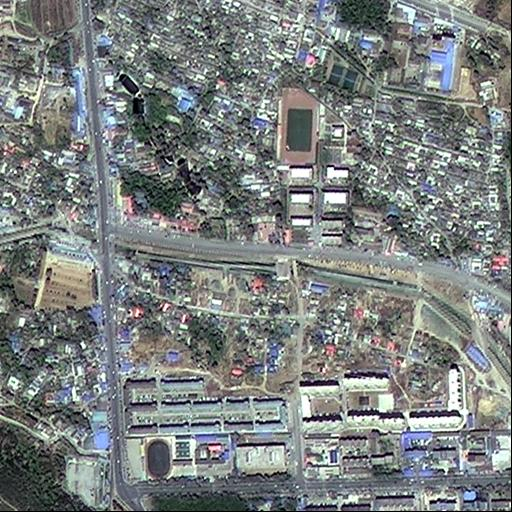school: (277, 86, 351, 248), (122, 431, 230, 482)
